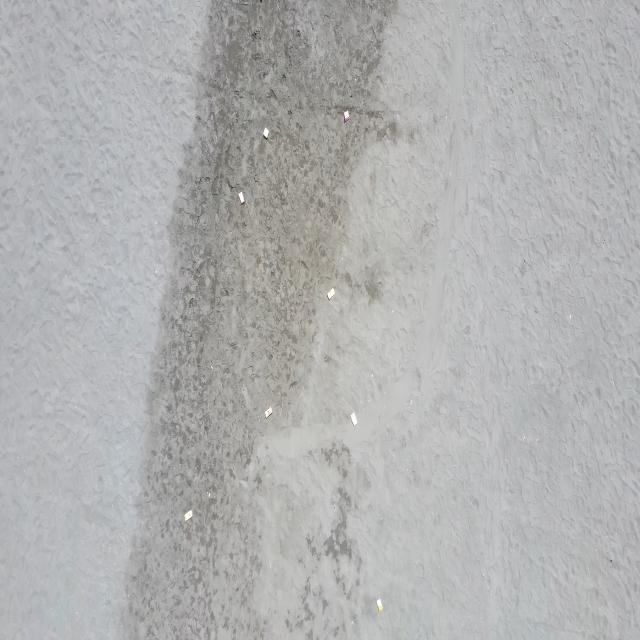retort-pouch: (348, 411, 359, 428), (183, 508, 194, 522), (326, 286, 336, 300), (238, 190, 247, 205), (375, 598, 384, 612), (342, 110, 352, 122), (264, 406, 274, 418), (262, 127, 271, 140)
